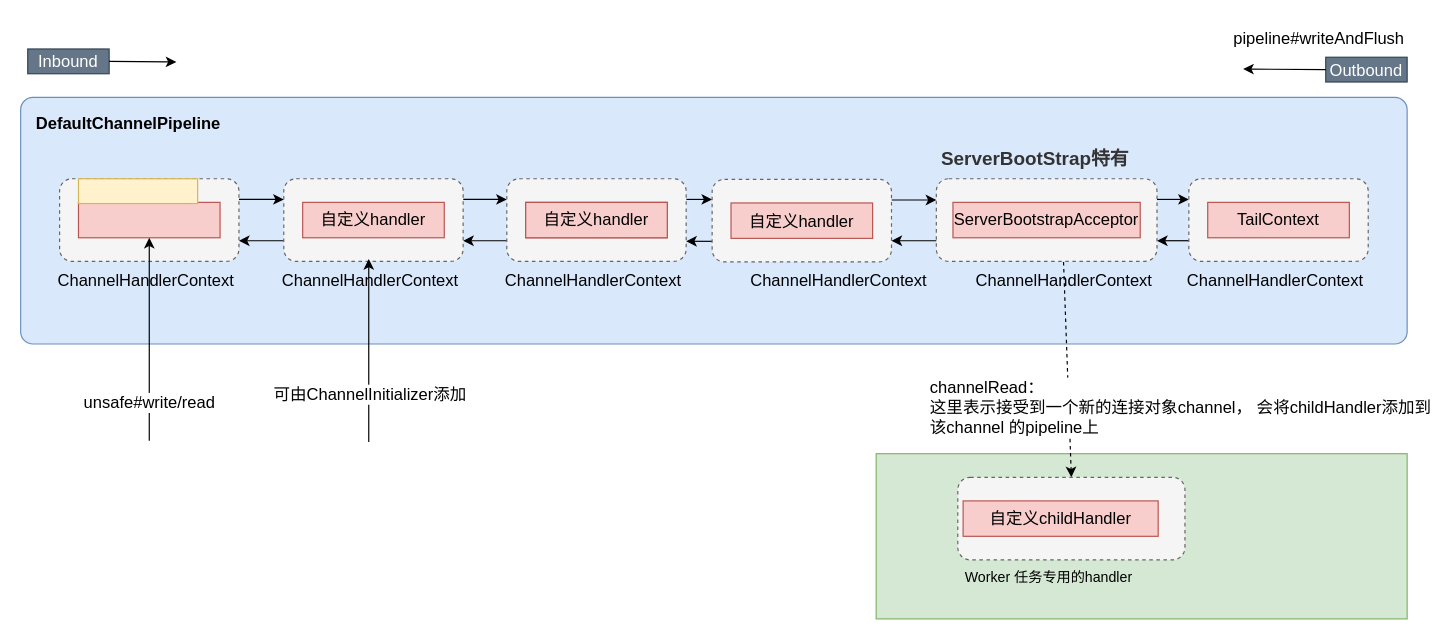
Image size: 1453x640. Some labels were removed from this diagram. Each missing label, with the centre of its shape:
"EventExecutor" belongs at point (137, 191).
"HeadContext" belongs at point (148, 219).
